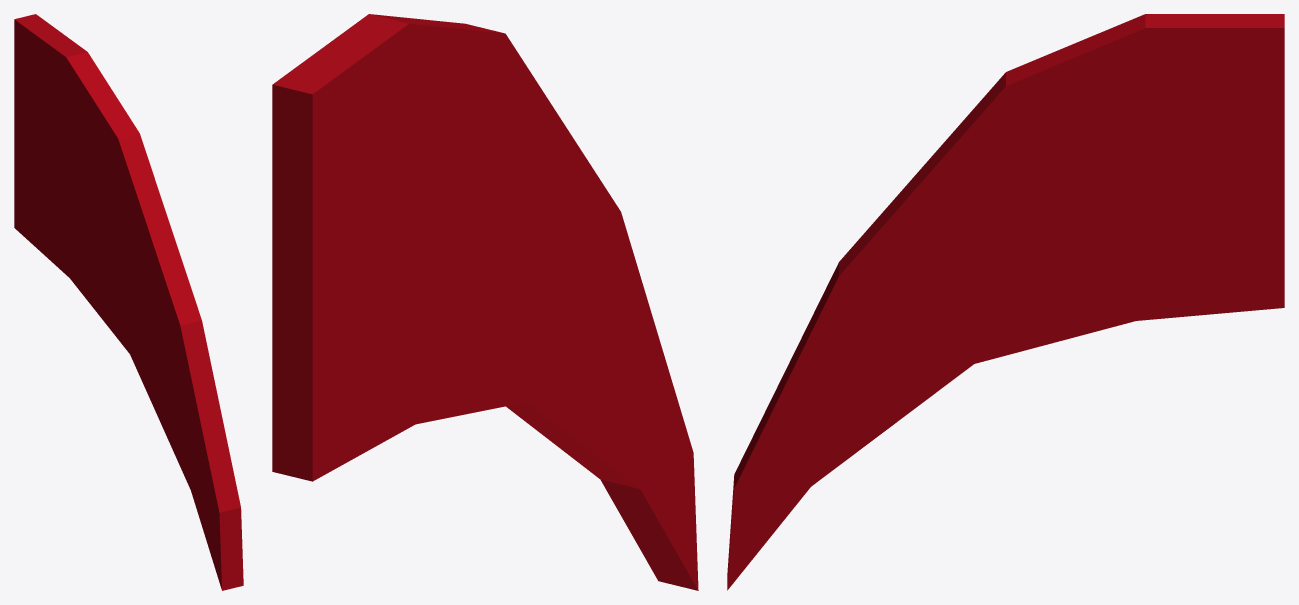
The model's file is RocketFins.fbx.
3 views of the same model, side by side, from view 1: azimuth 30°, elevation 25°; view 2: azimuth 150°, elevation 25°; view 3: azimuth 270°, elevation 25° (orthographic). The views are drawn at different scales.
Parts seen in each view (by area): view 1: Cube; view 2: Cube; view 3: Cube.
Part boxes in pixels (x1,y1,x2,y2): Cube: [14, 14, 243, 590]; Cube: [272, 14, 698, 590]; Cube: [727, 14, 1284, 590].
Size of the model in its own units: 12.02 by 223 by 200.
